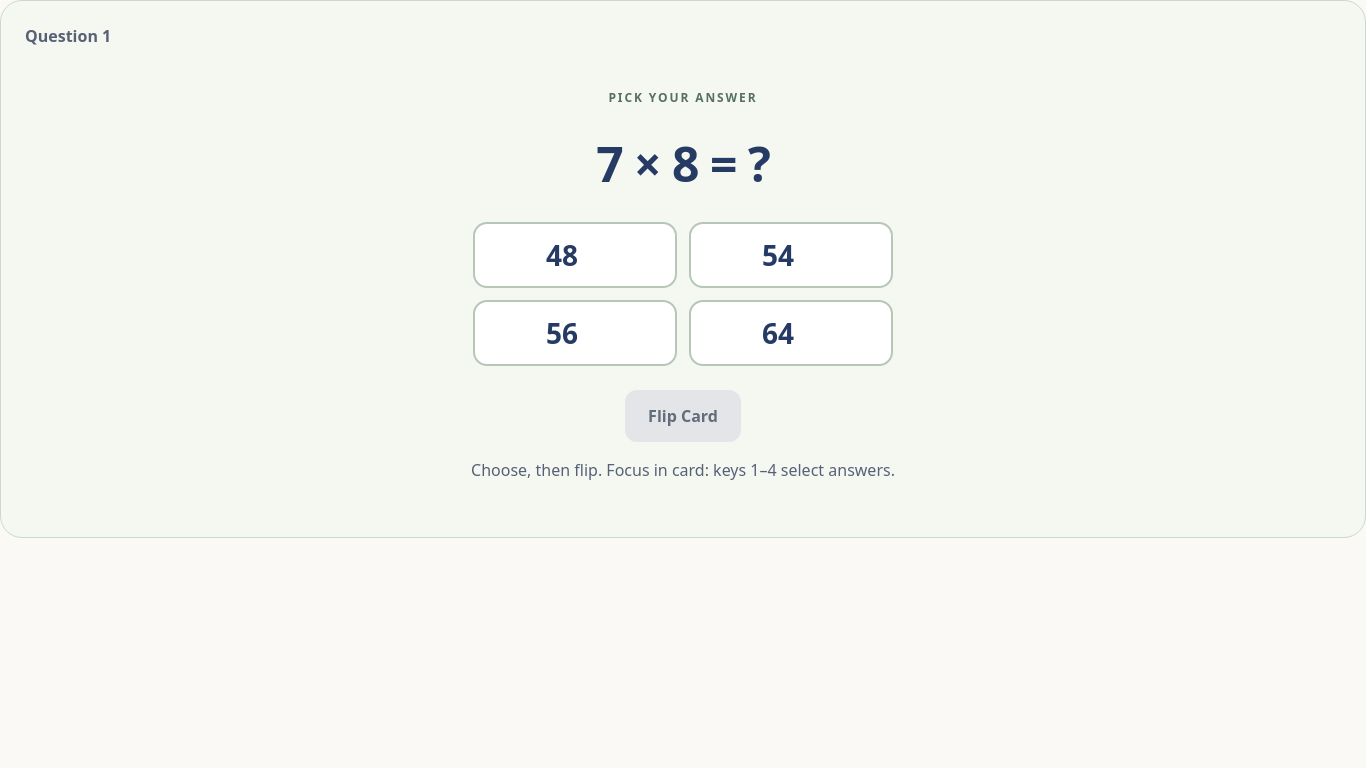
Test: question card › reveals original math, correct and selected answers, and locks answer changes
Click the button named "Answer 48" at (575, 255), box [473,222,677,288]
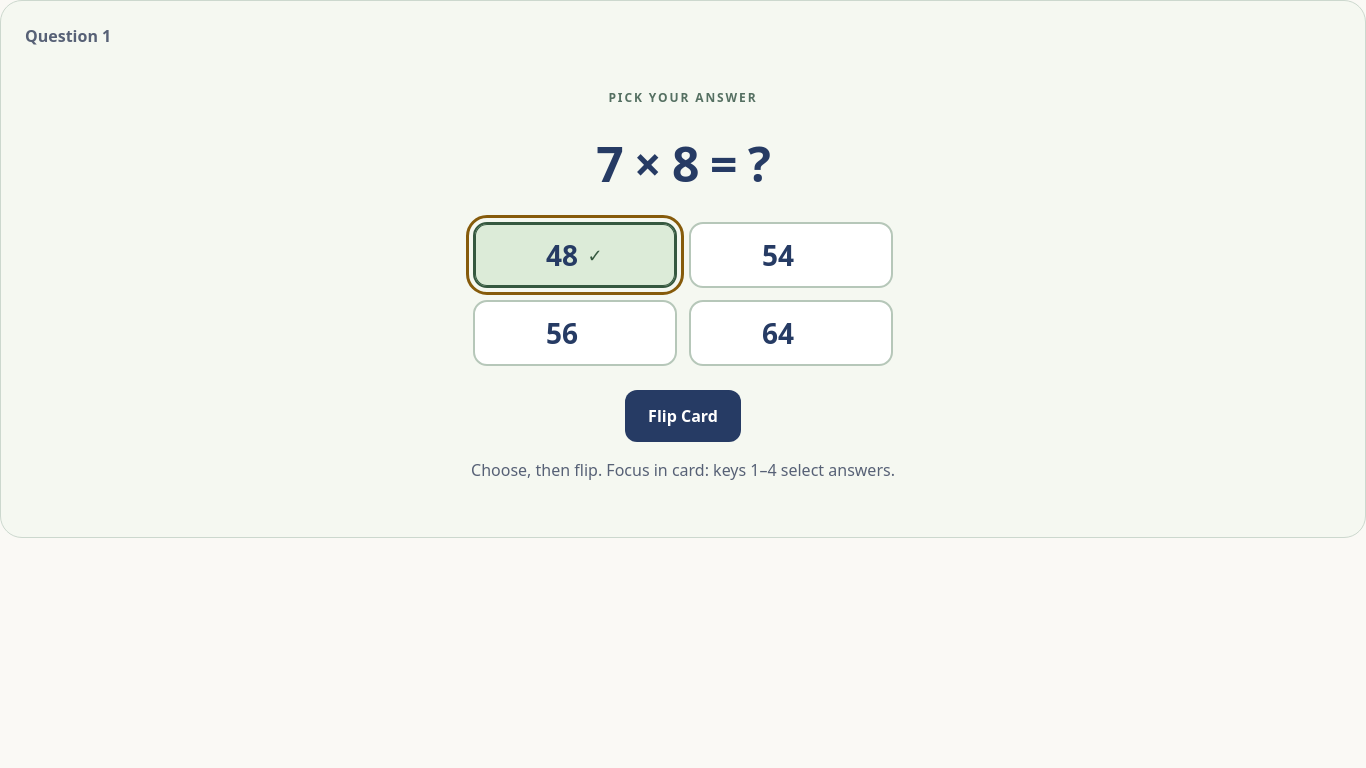
Click the button "Flip Card" at (683, 416), box [625,390,741,442]
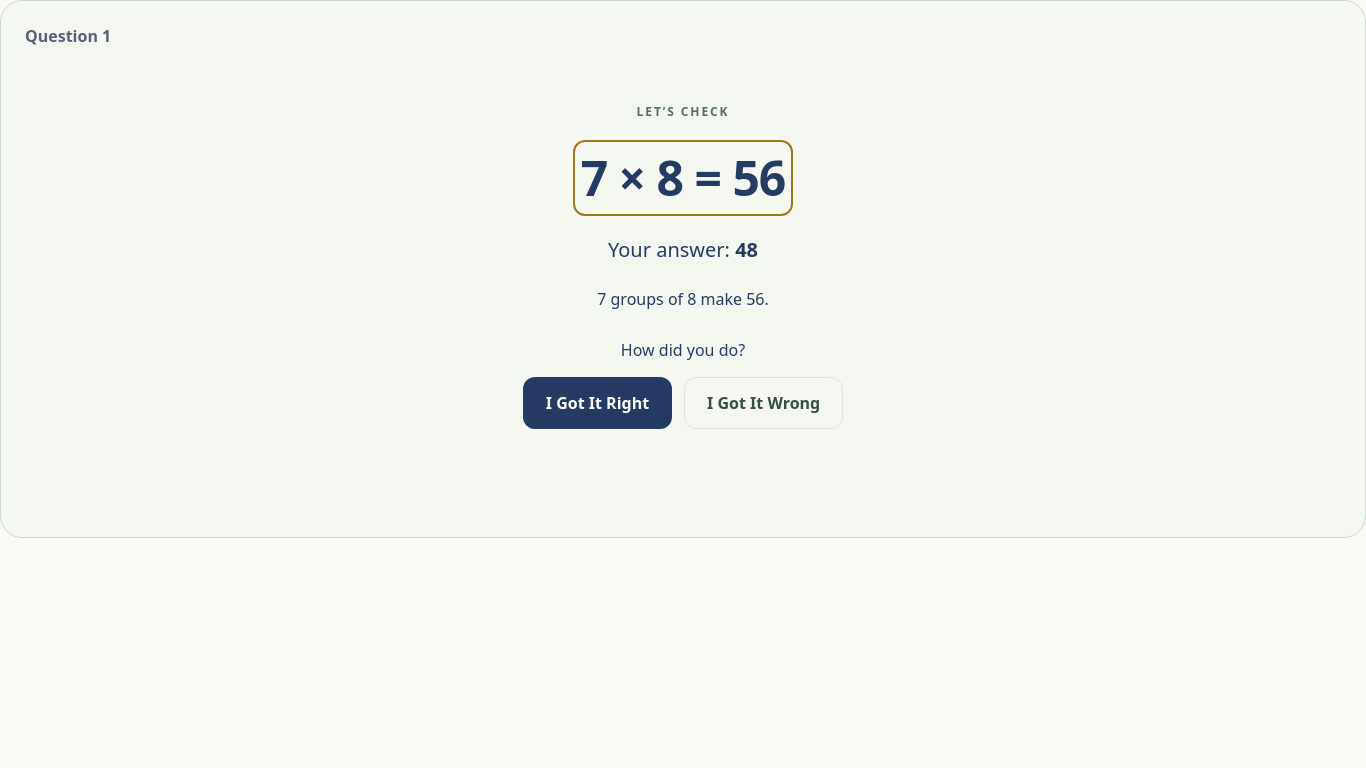
Expected: the text "48" is shown, [735,236,758,263]
Expected: the heading named "Correct answer: 56" reads "7 × 8 = 56", [581,145,785,210]
Expected: the button "Flip Card" is gone
